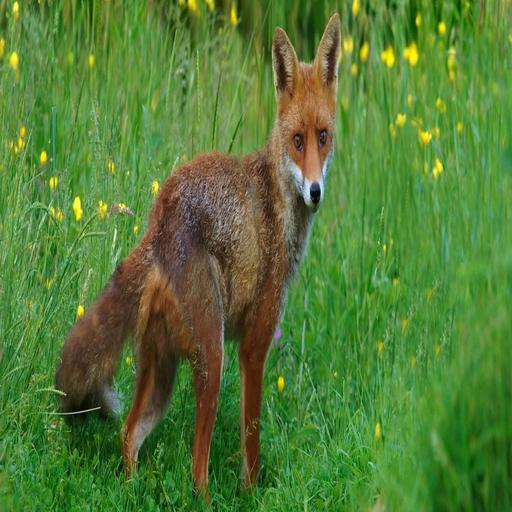Fox: (46, 26, 359, 496)
